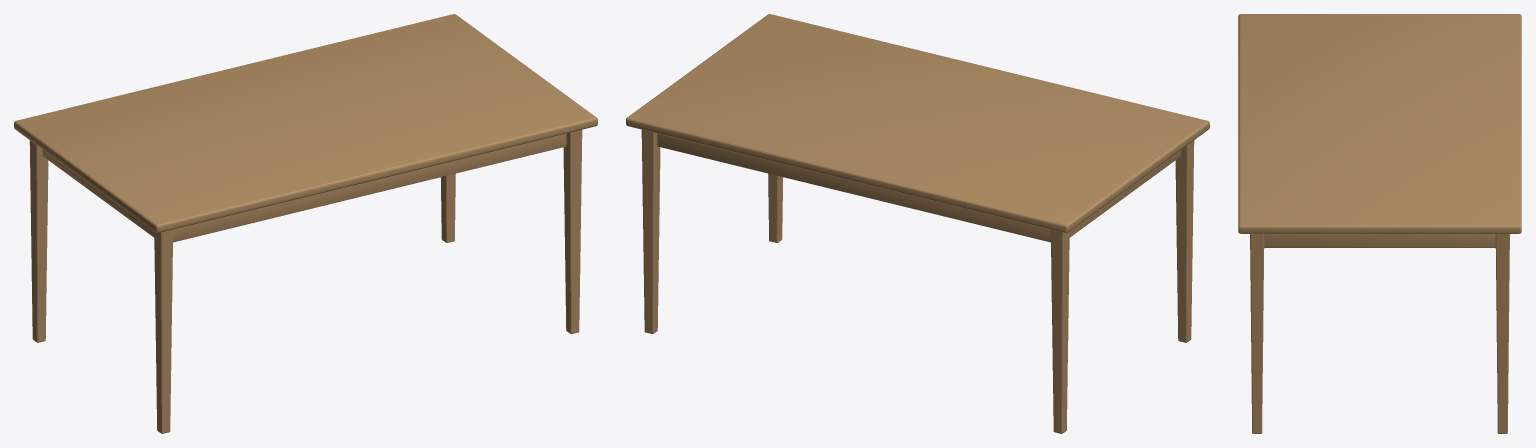
Rendered from mesa-comedor.glb.
3 views of the same model, side by side, from view 1: azimuth 30°, elevation 25°; view 2: azimuth 150°, elevation 25°; view 3: azimuth 270°, elevation 25° (orthographic).
Visible parts, largest first — view 1: Tablero.002, Faldón, Pata.009, Pata.011, Pata.010, Pata.012; view 2: Tablero.002, Faldón, Pata.010, Pata.012, Pata.009, Pata.011; view 3: Tablero.002, Faldón, Pata.011, Pata.012.
Part boxes in pixels (box(x1,y1,x2,y2)): Tablero.002: box(14, 14, 597, 232); Faldón: box(42, 133, 566, 242); Pata.009: box(154, 229, 173, 433); Pata.011: box(563, 129, 582, 334); Pata.010: box(29, 140, 48, 342); Pata.012: box(440, 173, 455, 242); Tablero.002: box(626, 14, 1209, 232); Faldón: box(657, 133, 1181, 242); Pata.010: box(1050, 229, 1069, 433); Pata.012: box(641, 129, 660, 334); Pata.009: box(1175, 140, 1194, 342); Pata.011: box(768, 173, 783, 242); Tablero.002: box(1238, 14, 1521, 233); Faldón: box(1264, 234, 1495, 247); Pata.011: box(1250, 234, 1264, 433); Pata.012: box(1495, 234, 1509, 433).
Bounding box in the file's own units: 1.6 × 0.75 × 0.9.
